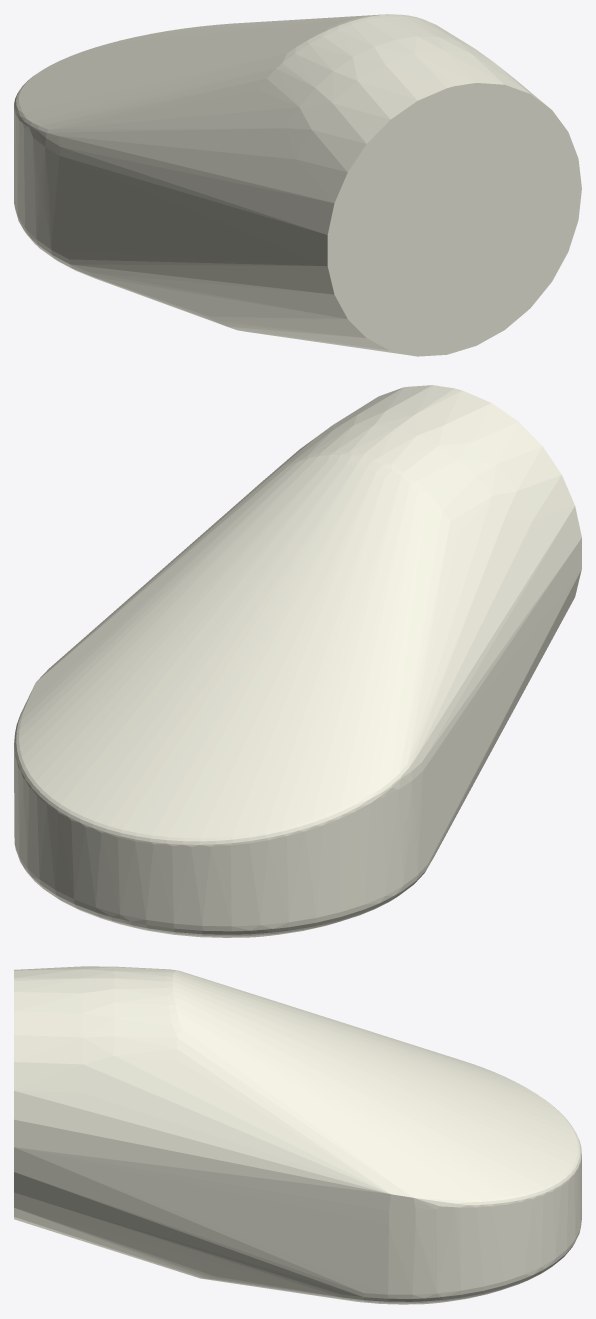
File: MOTOMAN_AXIS_L_COLLISION.dae
The picture shows the model from 3 angles, top to bottom: view 1: azimuth 30°, elevation 25°; view 2: azimuth 150°, elevation 25°; view 3: azimuth 270°, elevation 25°; orthographic projection. The views are drawn at different scales.
Visible parts, largest first — view 1: node; view 2: node; view 3: node.
Part boxes in pixels (x1,y1,x2,y2): node: (14, 14, 581, 356); node: (14, 385, 581, 937); node: (14, 966, 581, 1304).
Bounding box in the file's own units: 0.24 × 0.2055 × 0.3794.
Materials: 1 (1 with a texture image).
